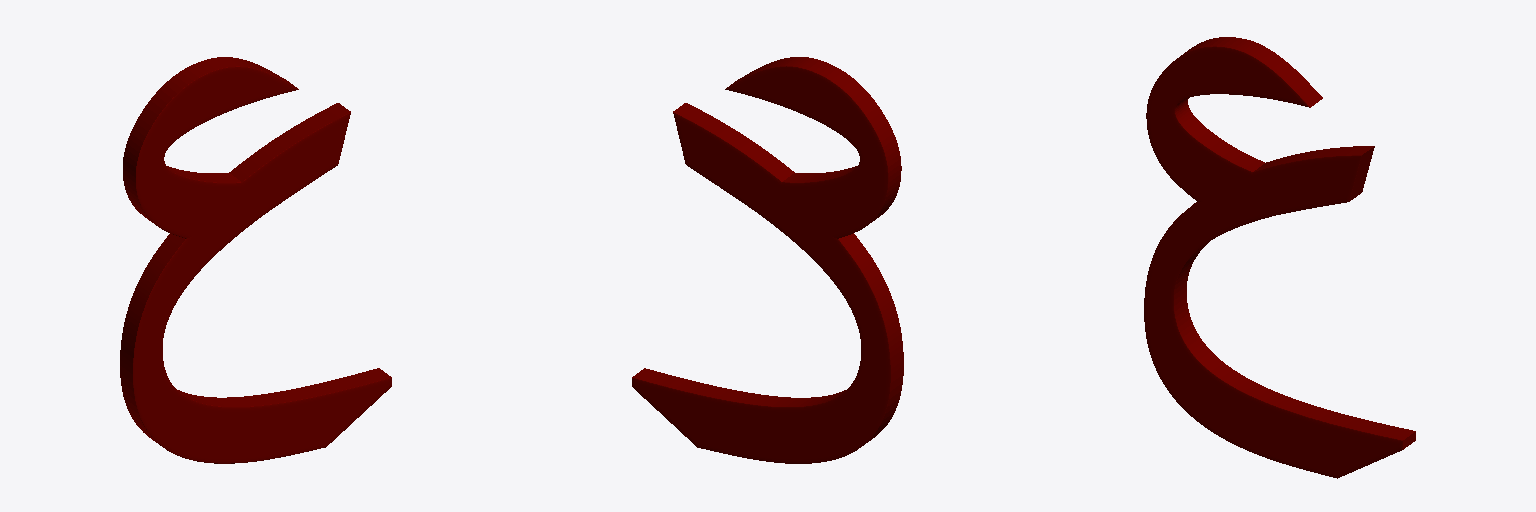
File: Ain.obj
The picture shows the model from 3 angles: view 1: azimuth 30°, elevation 25°; view 2: azimuth 150°, elevation 25°; view 3: azimuth 330°, elevation 25°; orthographic projection.
Visible parts, largest first — view 1: Curve.017; view 2: Curve.017; view 3: Curve.017.
Part boxes in pixels (left/top/right/bottom): Curve.017: left=120, top=57, right=391, bottom=463; Curve.017: left=632, top=57, right=903, bottom=463; Curve.017: left=1144, top=37, right=1415, bottom=478.
Size of the model in its own units: 3.28 by 4.9 by 0.301.